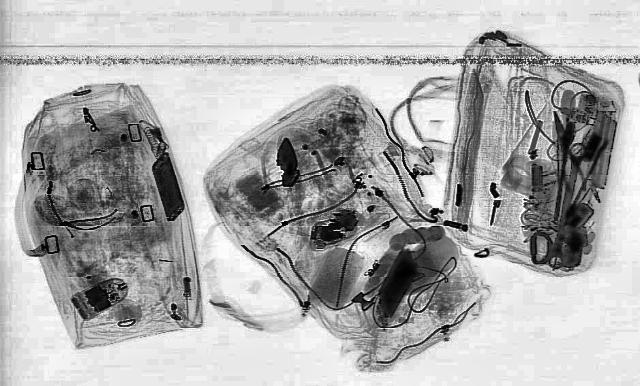Wrench: (545, 142, 591, 270)
